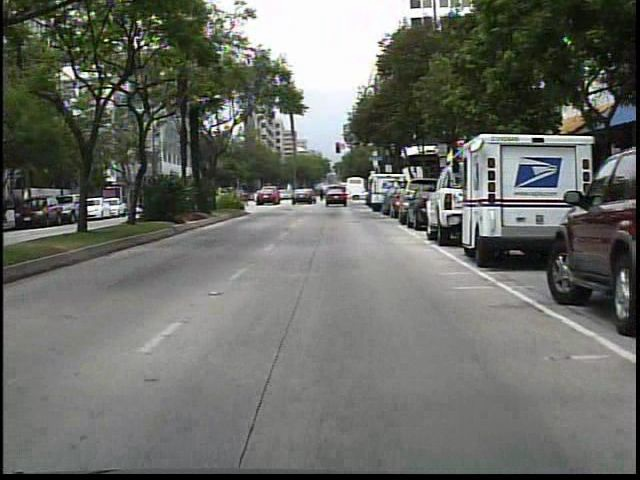person: (297, 182, 313, 206), (319, 184, 327, 203)
